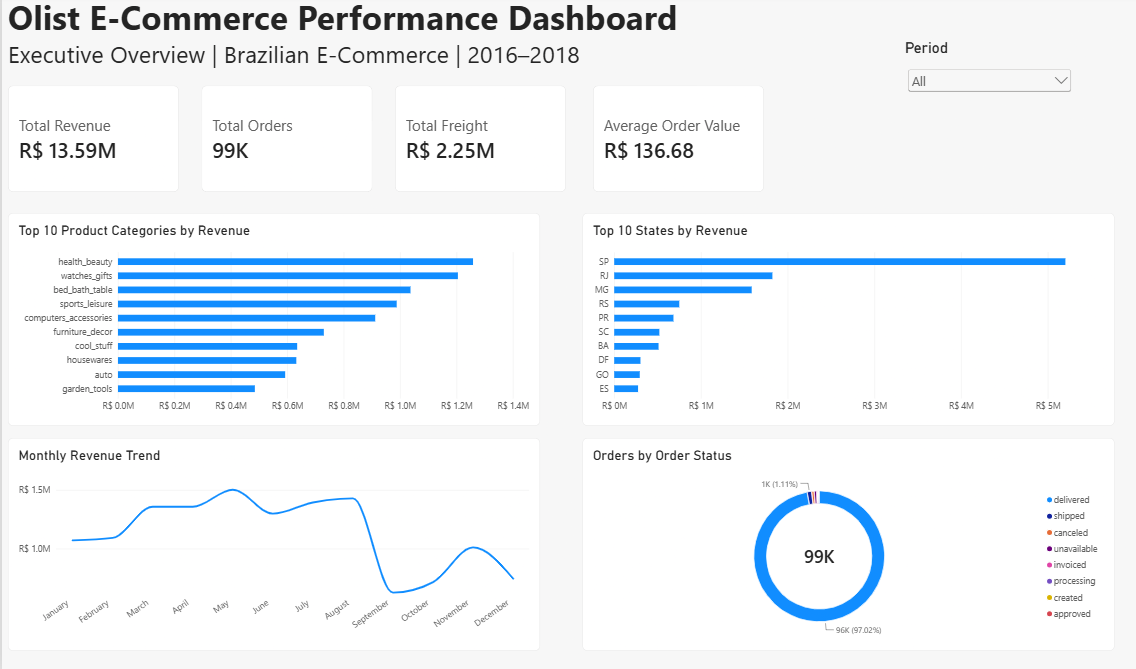

The page's visual inventory and layout, read from the dashboard file:
{"tool":"powerbi","page":{"name":"Executive Overview","canvas":[1920,1080],"ordinal":0},"visuals":[{"type":"textbox","box":[10,0,1100,145],"z":0},{"type":"cardVisual","fields":{"Data":["public vw_category_performance.Total Revenue"]},"box":[9.6,146.2,273,170],"z":1000},{"type":"cardVisual","fields":{"Data":["public vw_category_performance.Total Orders"]},"box":[318.7,146.2,273,170],"z":2000},{"type":"cardVisual","fields":{"Data":["public vw_category_performance.Total Freight"]},"box":[627.9,146.2,273,170],"z":3000},{"type":"cardVisual","fields":{"Data":["public vw_category_performance.Average Order Value"]},"box":[944.2,146.2,273,170],"z":4000},{"type":"clusteredBarChart","title":"Top 10 Product Categories by Revenue","fields":{"Y":["Sum(public vw_category_performance.revenue)"],"Category":["public vw_category_performance.category"]},"box":[9.6,349.9,850,340],"z":5000},{"type":"clusteredBarChart","title":"Top 10 States by Revenue","fields":{"Category":["public vw_state_performance.state"],"Y":["Sum(public vw_state_performance.revenue)"]},"box":[927.4,349.9,850,340],"z":6000},{"type":"donutChart","title":"Orders by Order Status","fields":{"Category":["public vw_order_status.order_status"],"Y":["Sum(public vw_order_status.orders)"]},"box":[927.4,709.4,850,340],"z":7000},{"type":"lineChart","title":"Monthly Revenue Trend","fields":{"Y":["Sum(public vw_monthly_sales.revenue)"],"Category":["public vw_monthly_sales.month.Variation.Date Hierarchy.Month"]},"box":[9.6,709.4,850,340],"z":8000},{"type":"slicer","title":"Period","fields":{"Values":["public vw_monthly_sales.month"]},"box":[1442.7,71.9,270,125],"z":9000}]}

Visuals, with their boxes on the page's 1920x1080 design canvas (x1, y1, x2, y2). These are canvas units, not pixel positions in the 1136x669 screenshot, which may show the page scaled, cropped or inside an application window:
textbox: x1=10 y1=0 x2=1110 y2=145
cardVisual - public vw_category_performance.Total Revenue: x1=10 y1=146 x2=283 y2=316
cardVisual - public vw_category_performance.Total Orders: x1=319 y1=146 x2=592 y2=316
cardVisual - public vw_category_performance.Total Freight: x1=628 y1=146 x2=901 y2=316
cardVisual - public vw_category_performance.Average Order Value: x1=944 y1=146 x2=1217 y2=316
"Top 10 Product Categories by Revenue" clusteredBarChart: x1=10 y1=350 x2=860 y2=690
"Top 10 States by Revenue" clusteredBarChart: x1=927 y1=350 x2=1777 y2=690
"Orders by Order Status" donutChart: x1=927 y1=709 x2=1777 y2=1049
"Monthly Revenue Trend" lineChart: x1=10 y1=709 x2=860 y2=1049
"Period" slicer: x1=1443 y1=72 x2=1713 y2=197
